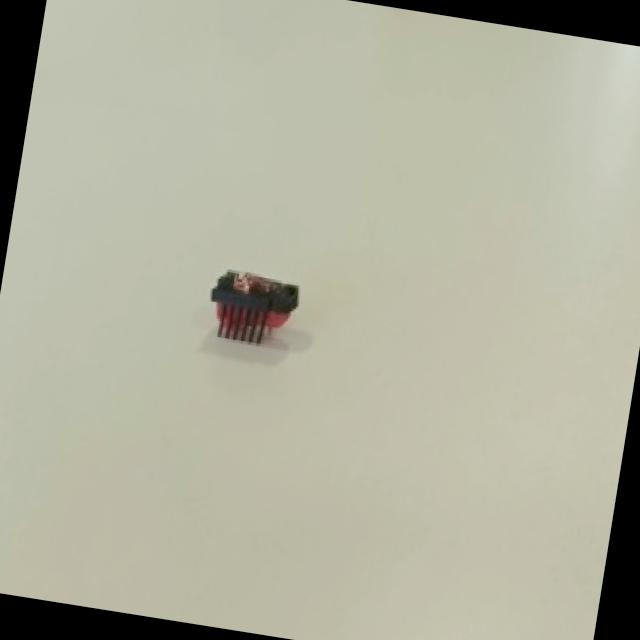2_NanoBug_Negro: (185, 233, 318, 384)
